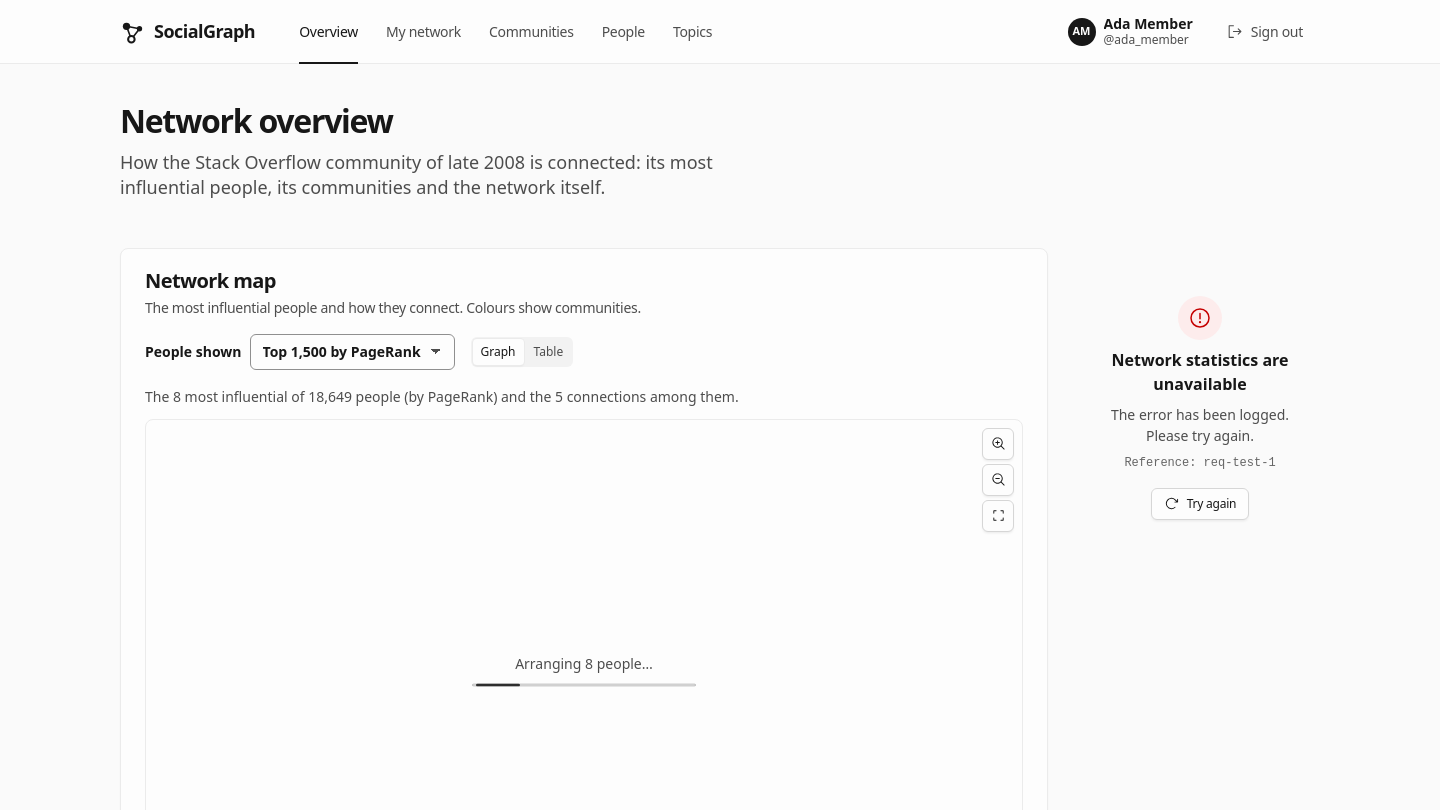
Test: Overview › shows an error with a working retry when the statistics fail
The image size is (1440, 810).
Check: the heading "Network overview" is shown, box [120,99,393,142]
Check: the text "Network statistics are unavailable" is shown, box [1104,348,1296,396]
Click the button "Try again".
click(1200, 504)  # box [1151,488,1249,520]
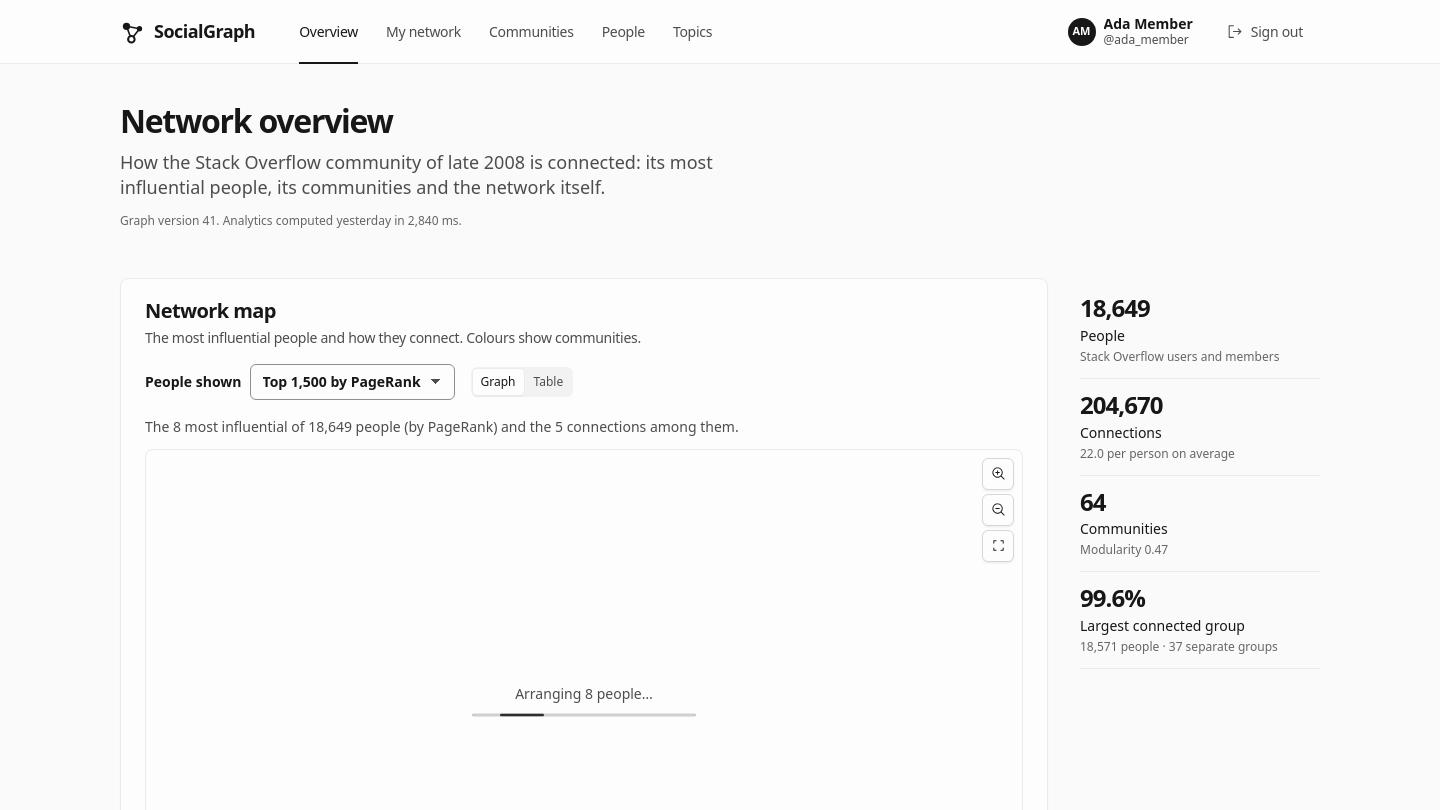
Check: the text "18,649" is shown, box [1080,291,1150,324]
